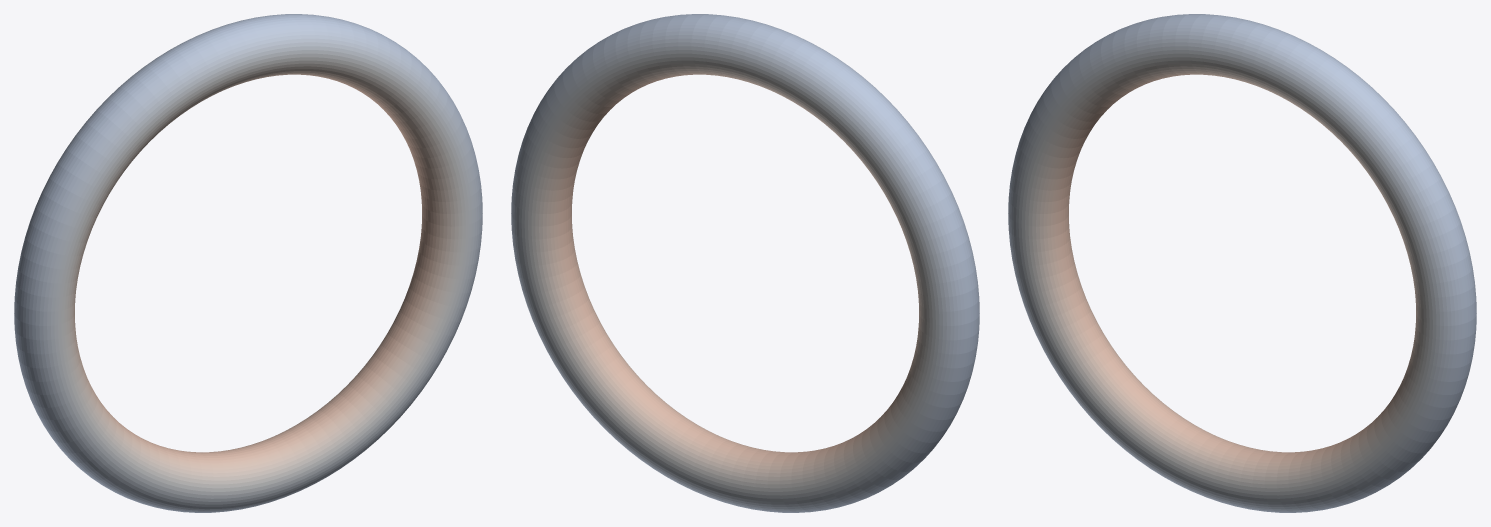
3 views of the same model, side by side, from view 1: azimuth 30°, elevation 25°; view 2: azimuth 150°, elevation 25°; view 3: azimuth 330°, elevation 25° (orthographic).
Visible parts, largest first — view 1: world; view 2: world; view 3: world.
Boxes of the visible parts, left/top/right/bottom form: world: left=14, top=14, right=482, bottom=512; world: left=511, top=14, right=979, bottom=512; world: left=1008, top=14, right=1476, bottom=512.
Bounding box in the file's own units: 33.87 × 33.87 × 3.86.
